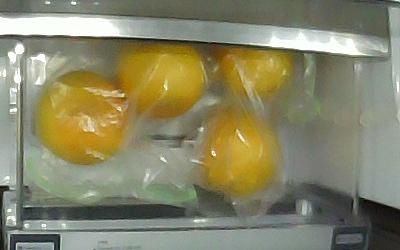grapefruit_vinyl: (34, 71, 129, 166), (202, 105, 282, 196), (117, 41, 208, 118), (209, 45, 295, 100)
